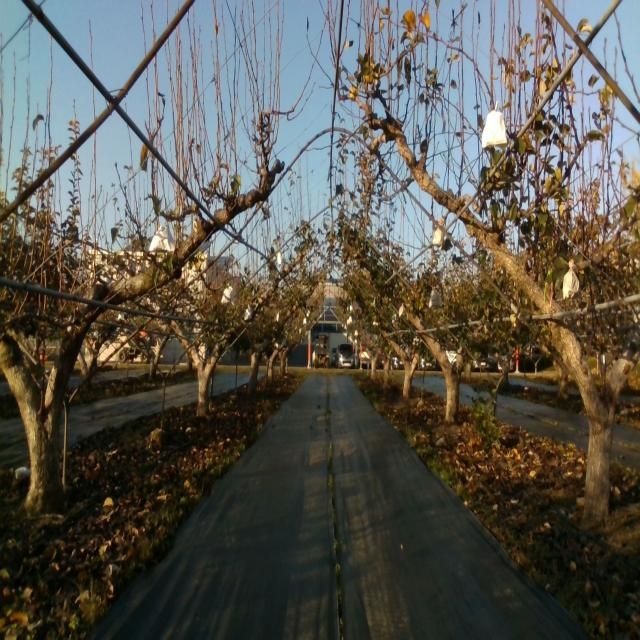pearbags: (481, 101, 508, 151), (150, 221, 176, 254), (563, 260, 580, 300), (221, 282, 234, 305), (428, 288, 442, 308), (432, 228, 444, 246)
